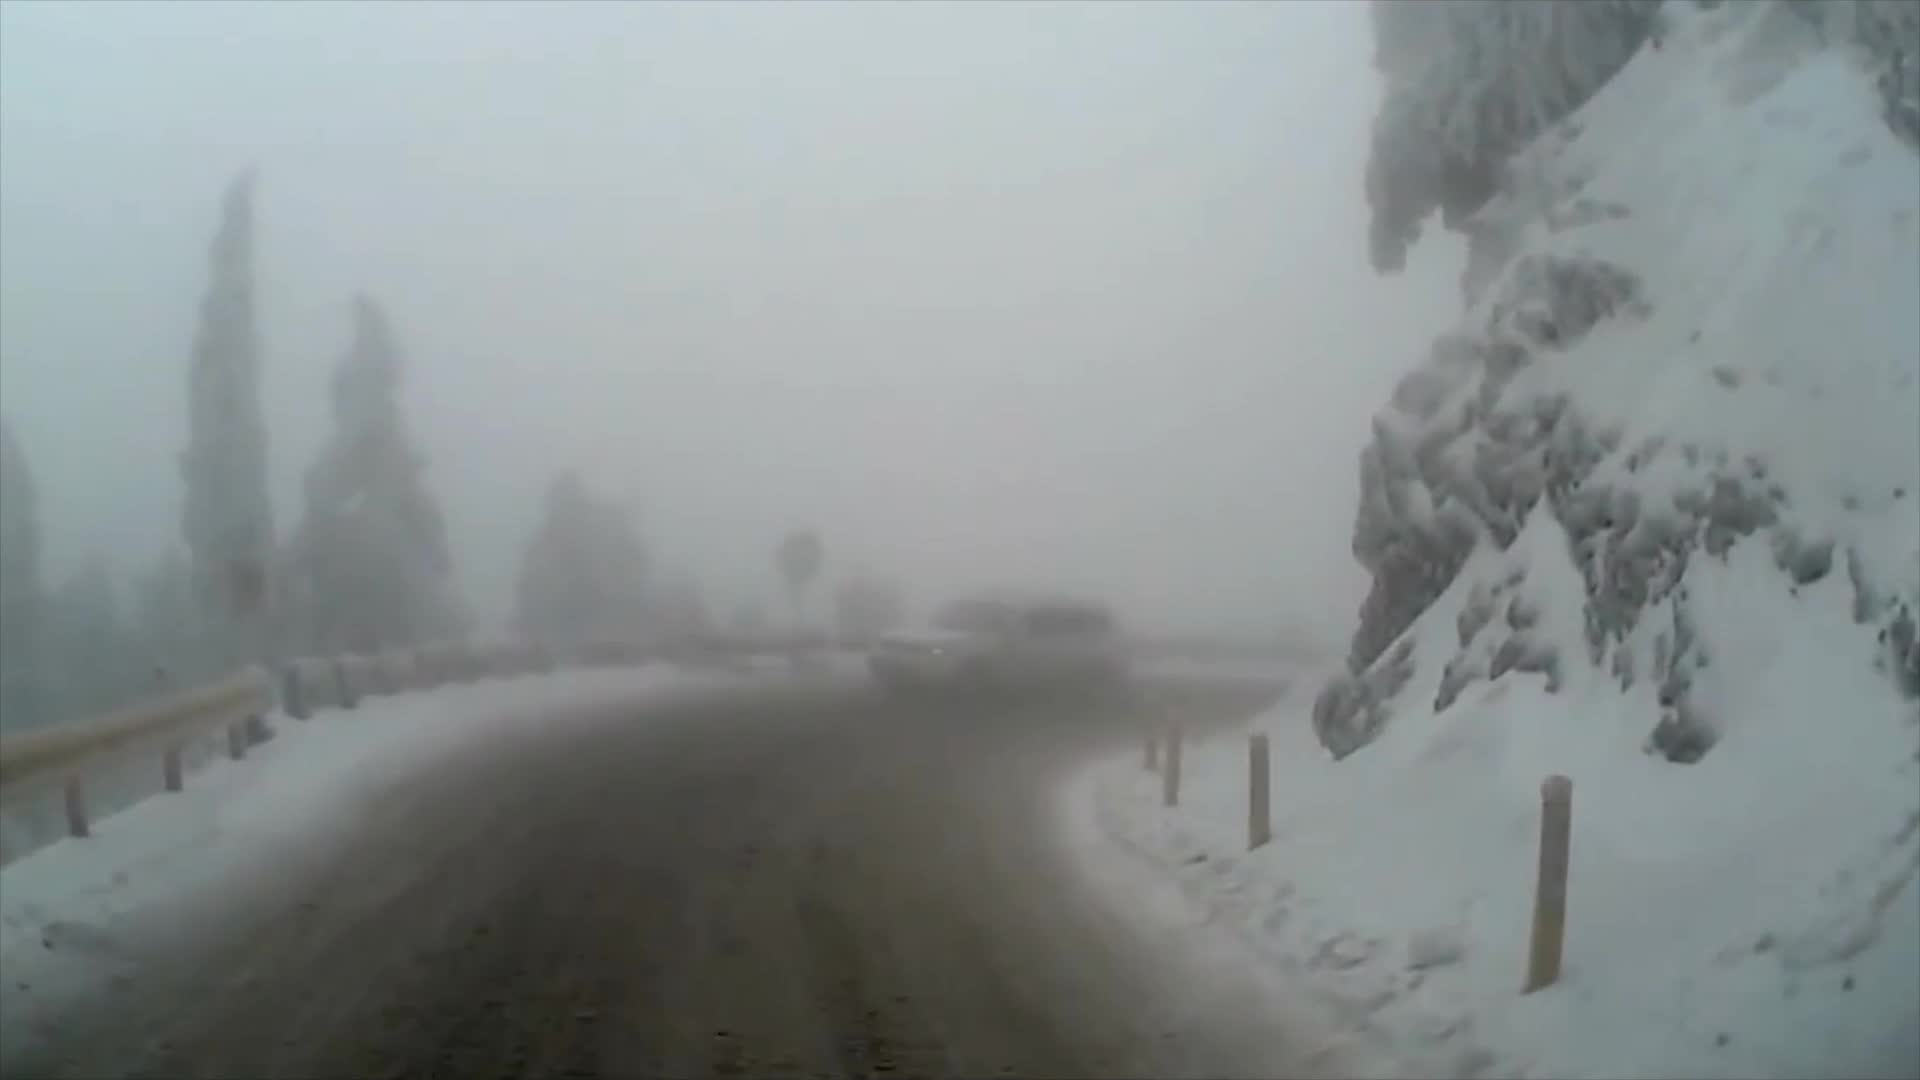vehicle: (862, 589, 1130, 713)
